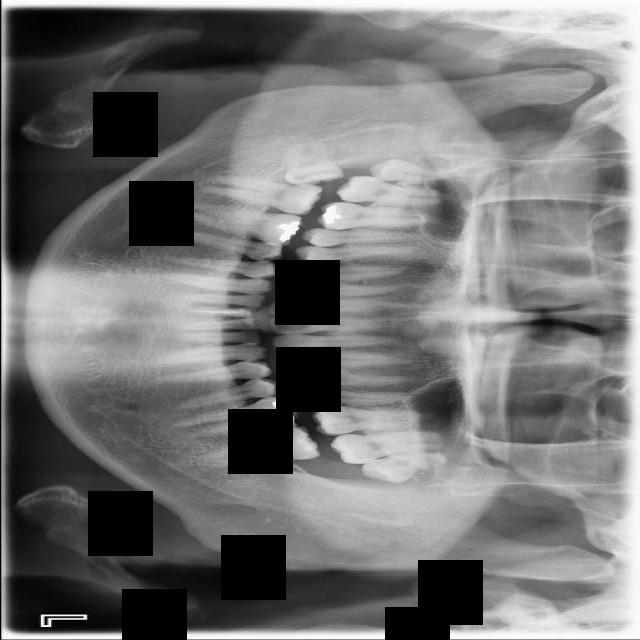3M ESPE Implant: (368, 159, 458, 183)
52: (319, 204, 343, 226), (230, 307, 257, 318)
73: (181, 307, 231, 317), (93, 594, 102, 598)
BioHorizons Implant: (330, 430, 442, 465)
BioLife Implant: (359, 446, 447, 490)
Blue Sky Bio Implant: (196, 423, 321, 470)
Caries: (336, 174, 440, 207)
Implant: (202, 174, 323, 217)
Keystone Dental Implant: (279, 138, 345, 189)
